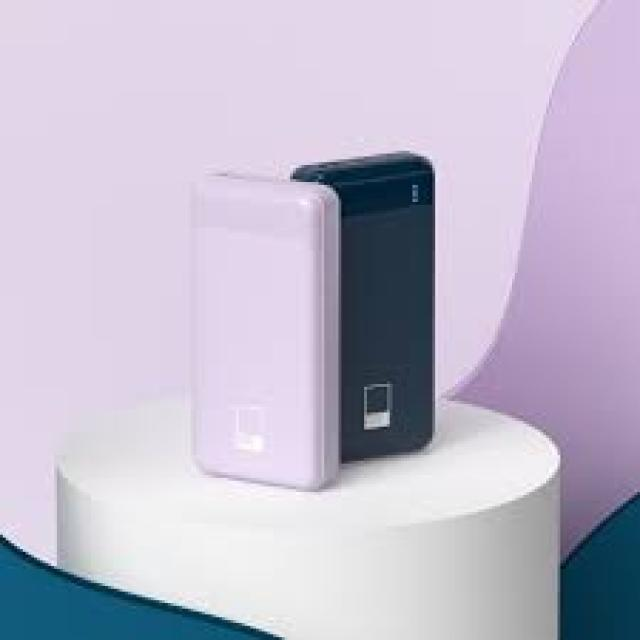power_bank: (184, 172, 344, 493), (294, 153, 437, 460)
